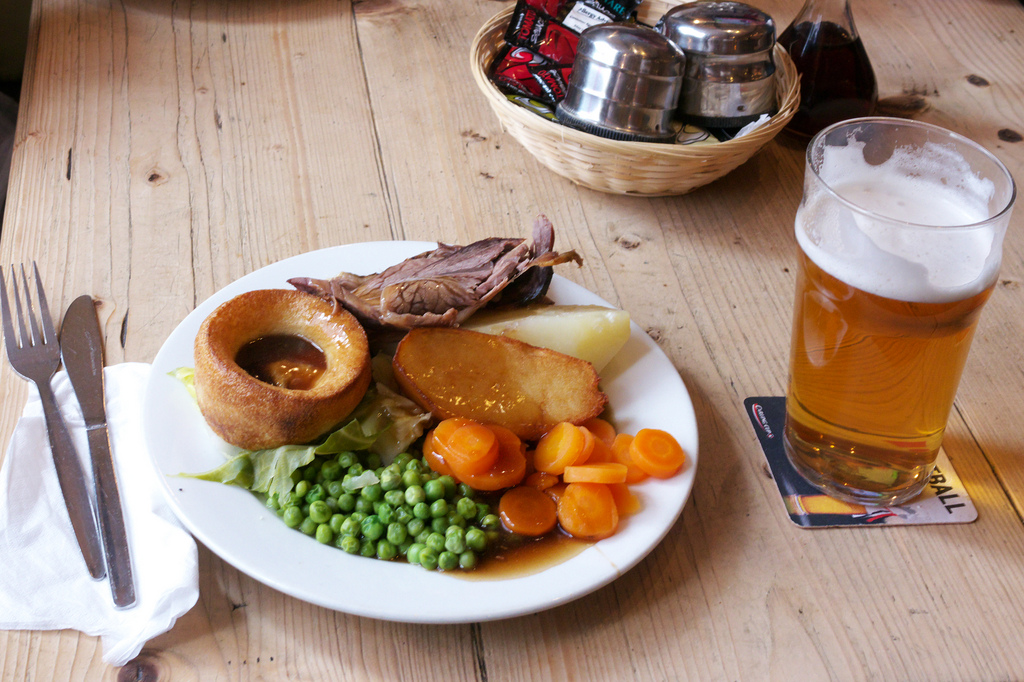boiled peas: (291, 451, 485, 576)
boiled potatoes: (395, 321, 601, 424), (482, 309, 636, 367)
